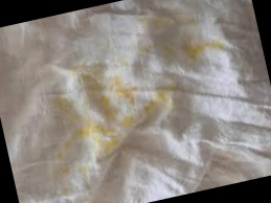mustard: (119, 82, 181, 135), (46, 81, 82, 129), (63, 120, 102, 154), (78, 65, 108, 106), (147, 5, 197, 29), (97, 122, 126, 158), (104, 76, 133, 109), (182, 39, 221, 62), (98, 88, 123, 120), (146, 41, 179, 58), (52, 158, 71, 178), (77, 165, 90, 176), (59, 186, 73, 195)
